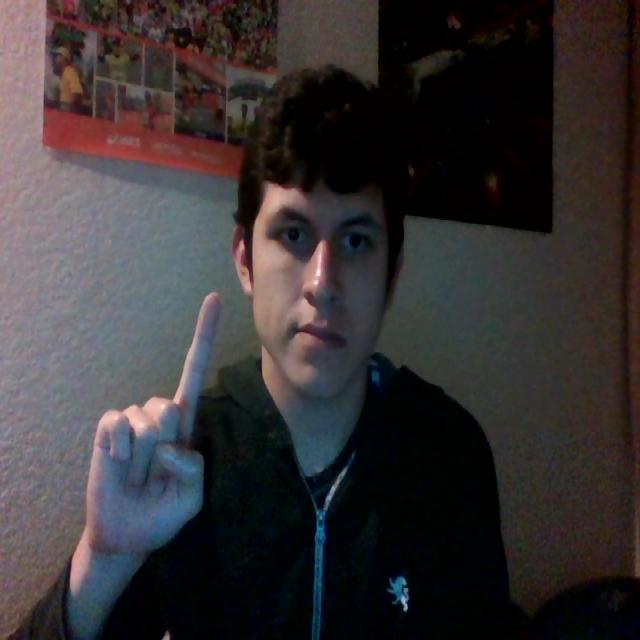D: (80, 263, 250, 584)
